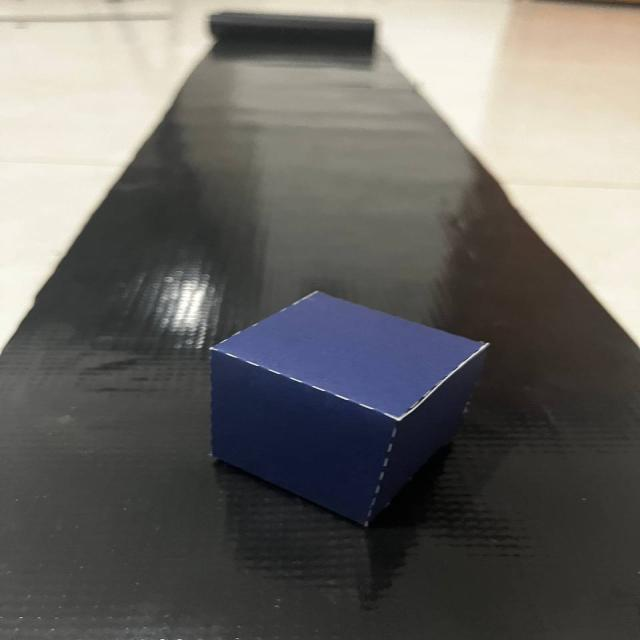Azul: (185, 278, 520, 544)
